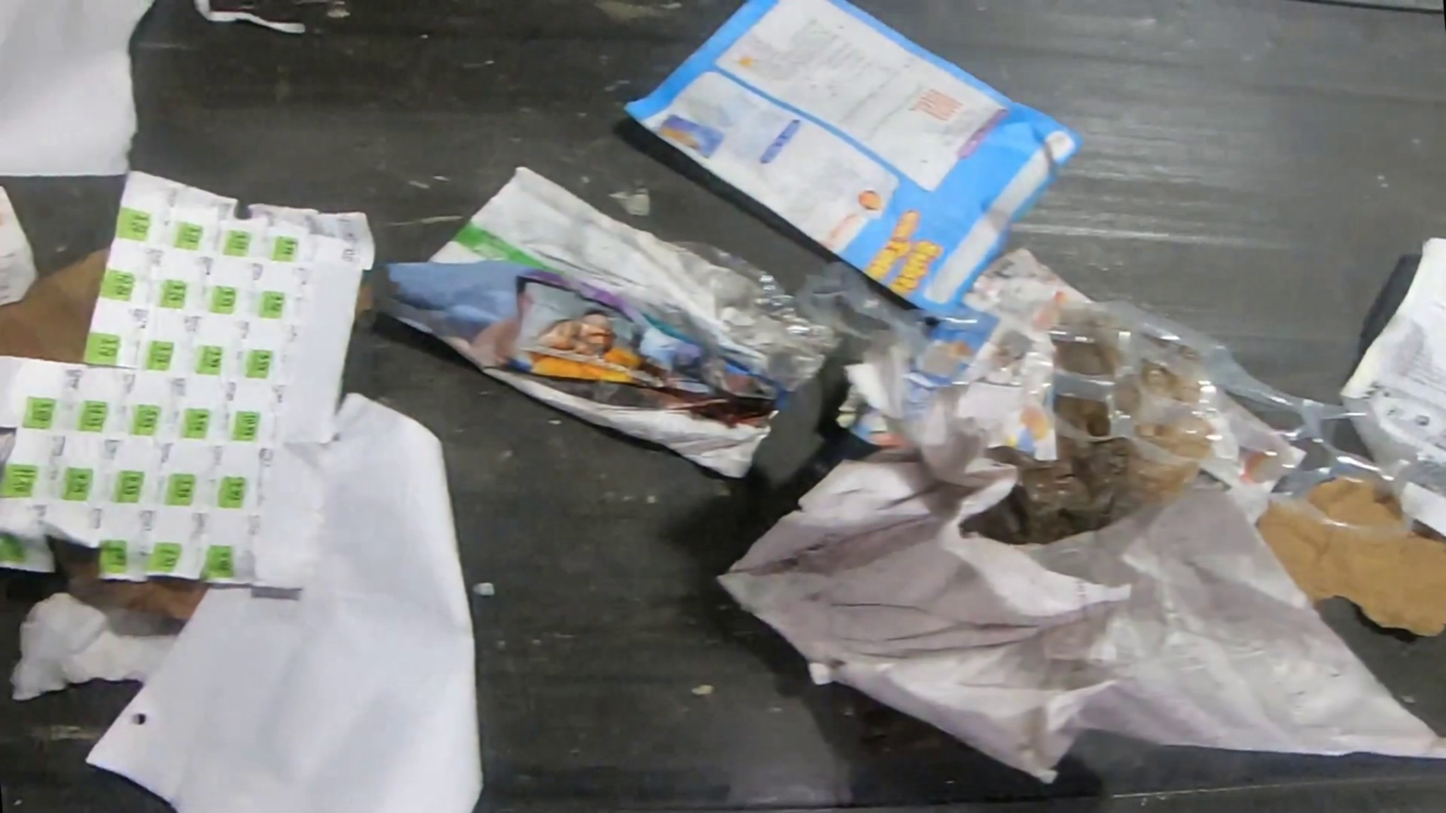cardboard: (1260, 504, 1446, 639), (48, 536, 213, 624), (0, 246, 110, 365)
plastic: (792, 260, 1423, 546), (663, 239, 844, 397), (962, 436, 1200, 545), (1135, 426, 1209, 457), (1056, 395, 1108, 437), (1142, 363, 1198, 401), (1058, 342, 1110, 376)
